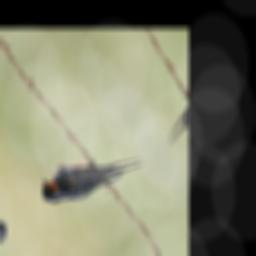Swallow: (33, 125, 146, 226)
